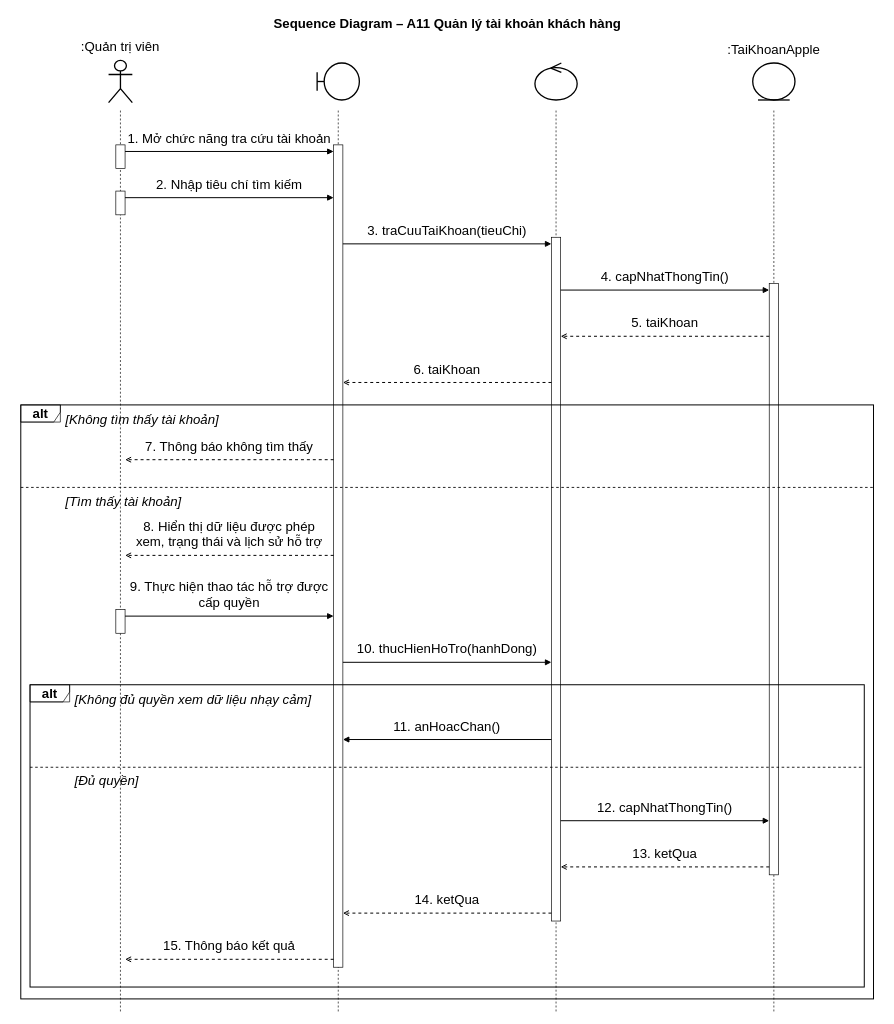
Some shapes in this 894 by 1024 pixel diagram are drawn without their labels. Here are the shapes that lost their labels. From the top down, the centre of each, then its label:
[338,81]: :QuanLyTaiKhoanKHPage
[556,81]: :QuanLyTaiKhoanKHController
